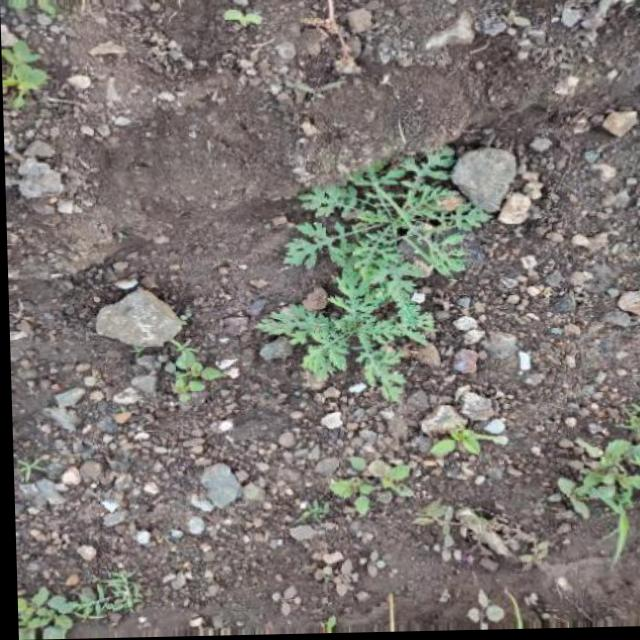weed: (251, 155, 498, 417), (531, 410, 640, 526), (147, 319, 222, 420)
